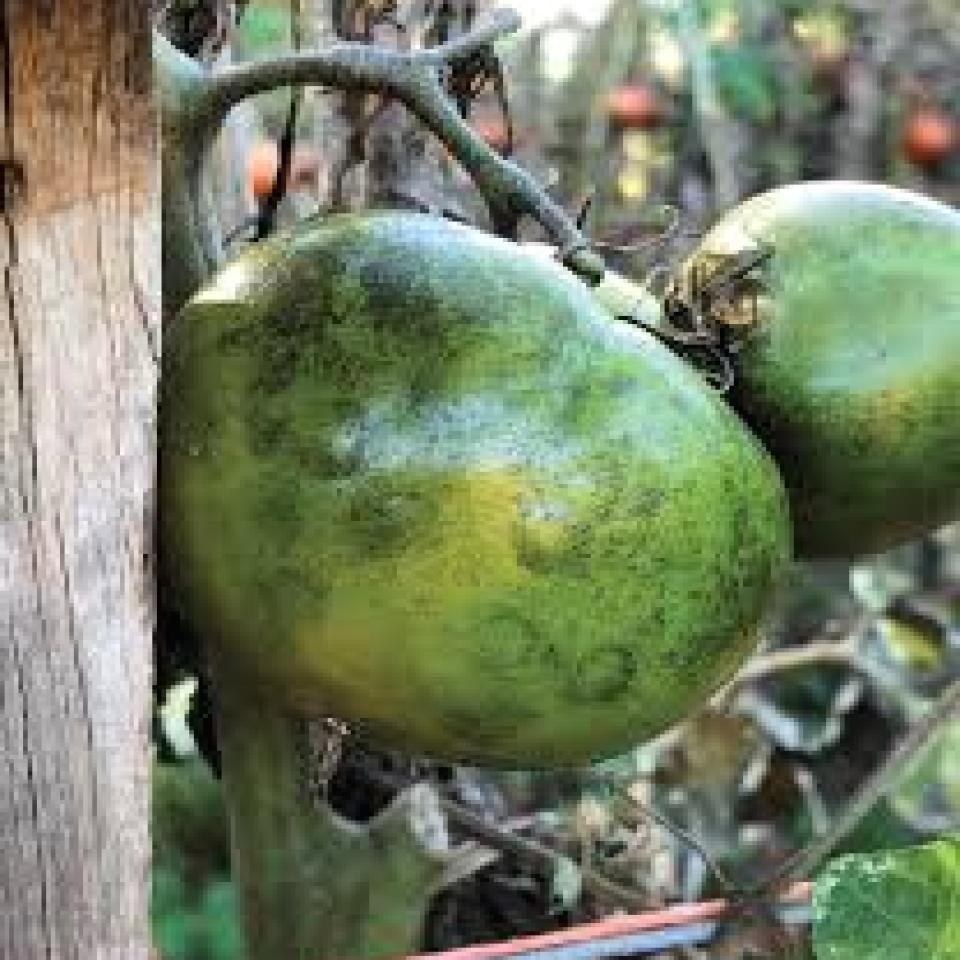Spotted wilt Virus: (162, 209, 789, 767), (669, 185, 960, 554)
